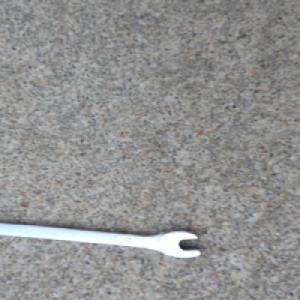Wrench: (0, 220, 203, 258)
